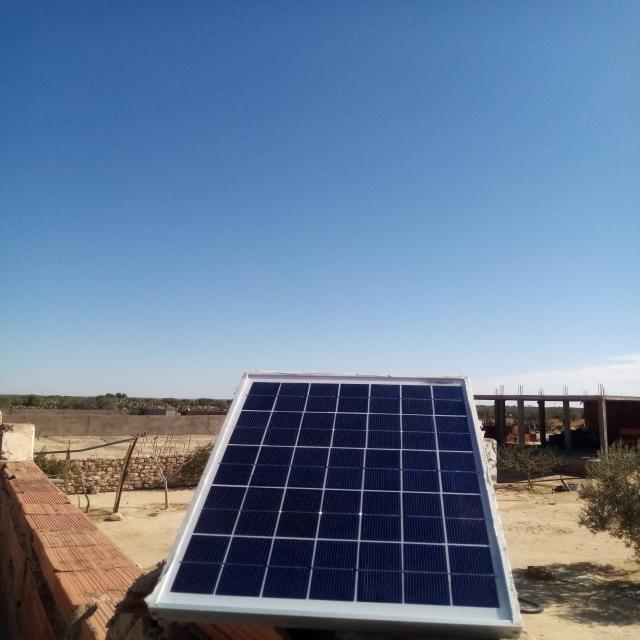Normal Solar Panel: (146, 375, 515, 626)
